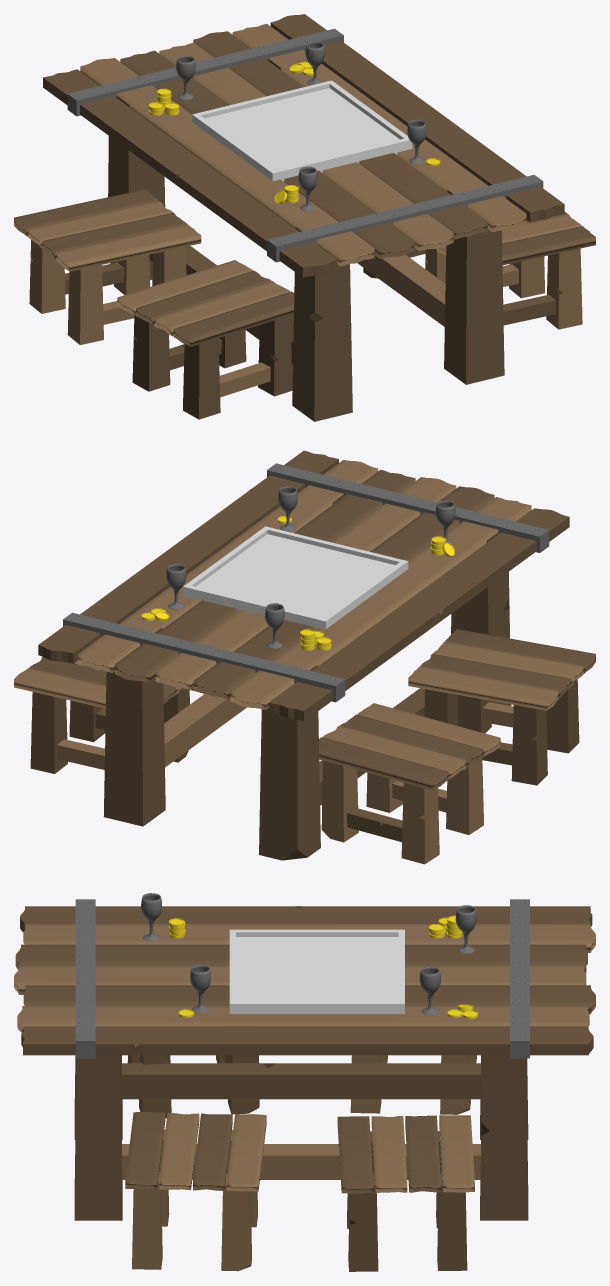
Rendered from nowall.glb.
3 views of the same model, one above another, from view 1: azimuth 30°, elevation 25°; view 2: azimuth 150°, elevation 25°; view 3: azimuth 270°, elevation 25° (orthographic). The views are drawn at different scales.
Visible parts, largest first — view 1: Cube.045, Cube.102, Cube.036, Cube.042, Cube.062, Cube.037, Cube.076, Cube.041, Cube.040, Cube.039, Cube.038, Cube.055 (+21 smaller); view 2: Cube.045, Cube.102, Cube.036, Cube.042, Cube.076, Cube.037, Cube.062, Cube.040, Cube.041, Cube.039, Cube.038, Cube.048 (+20 smaller); view 3: Cube.042, Cube.045, Cube.102, Cube.046, Cube.041, Cube.036, Cube.038, Cube.037, Cube.040, Cube.039, Cube.055, Cube.048 (+17 smaller).
Part boxes in pixels (x1,y1,x2,y2): Cube.045: (108, 59, 504, 421); Cube.102: (192, 80, 412, 181); Cube.036: (43, 69, 337, 277); Cube.042: (270, 14, 564, 222); Cube.062: (132, 314, 293, 419); Cube.037: (80, 58, 374, 266); Cube.076: (29, 240, 186, 344); Cube.041: (232, 23, 526, 232); Cube.040: (193, 31, 487, 239); Cube.039: (159, 42, 453, 251); Cube.038: (120, 50, 414, 258); Cube.055: (425, 248, 582, 329); Cube.045: (103, 494, 511, 860); Cube.102: (183, 526, 408, 629); Cube.036: (269, 508, 569, 721); Cube.042: (38, 450, 338, 663); Cube.076: (321, 758, 483, 864); Cube.037: (230, 497, 531, 709); Cube.062: (424, 679, 579, 785); Cube.040: (115, 469, 415, 682); Cube.041: (77, 460, 378, 672); Cube.039: (155, 477, 456, 690); Cube.038: (193, 486, 494, 699); Cube.048: (30, 688, 189, 773); Cube.042: (21, 1026, 593, 1055); Cube.045: (74, 1055, 528, 1220); Cube.102: (229, 929, 404, 1013); Cube.046: (122, 1063, 480, 1099); Cube.041: (17, 1006, 589, 1032); Cube.036: (20, 906, 592, 931); Cube.038: (15, 944, 587, 973); Cube.037: (23, 924, 595, 952); Cube.040: (23, 985, 595, 1014); Cube.039: (14, 966, 586, 994); Cube.055: (132, 1129, 257, 1271); Cube.048: (347, 1131, 467, 1271).
Size of what is drawn, in the model's own units: 2.8 by 1.37 by 3.03.
